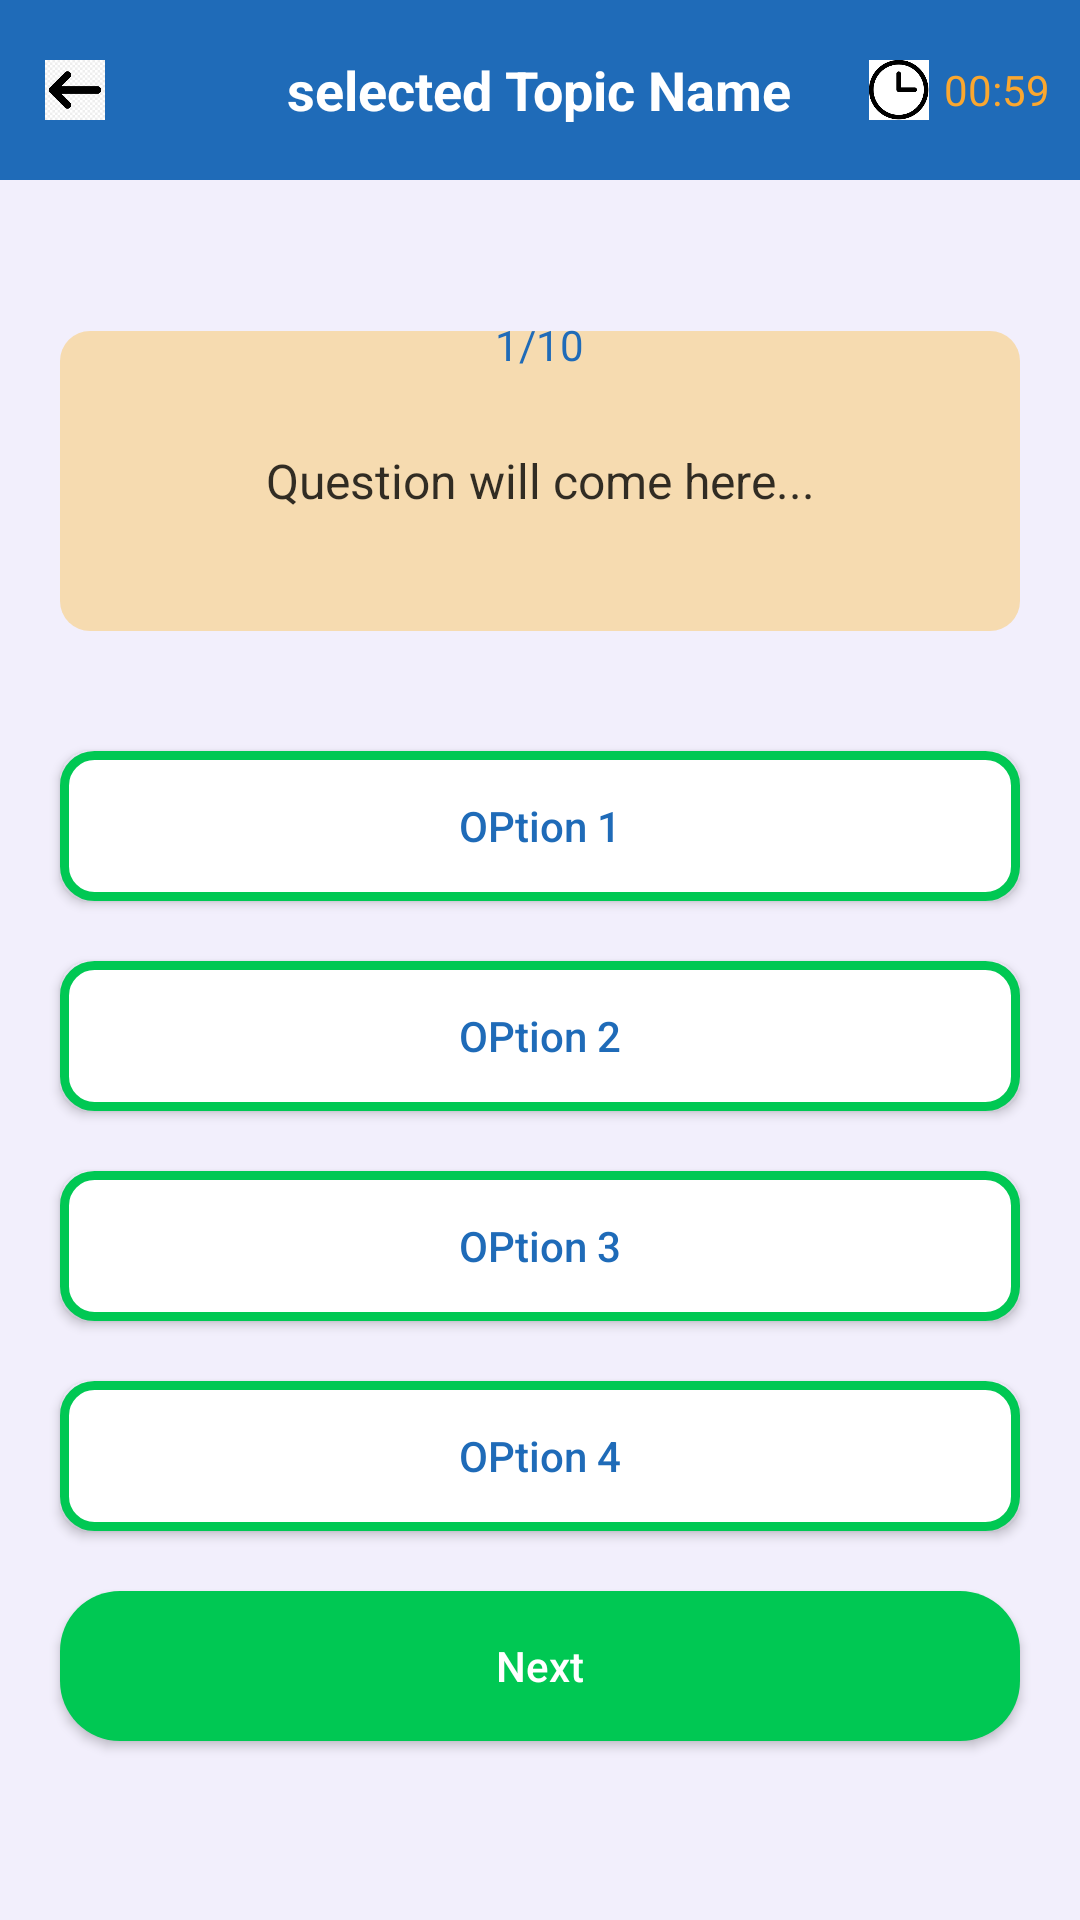

Where icons sit on this 1080x1920 app screen, as detection(x1, y1, x2, y2):
back: detection(45, 60, 105, 120)
timer: detection(869, 60, 929, 120)
